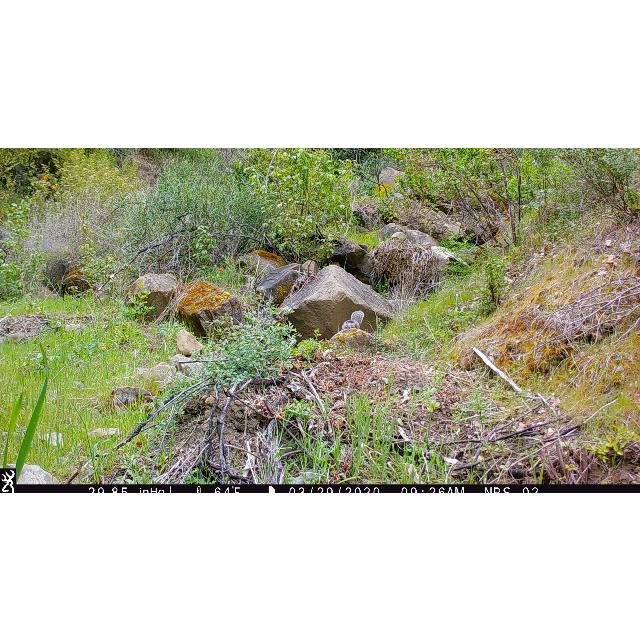animals: (342, 308, 364, 329)
